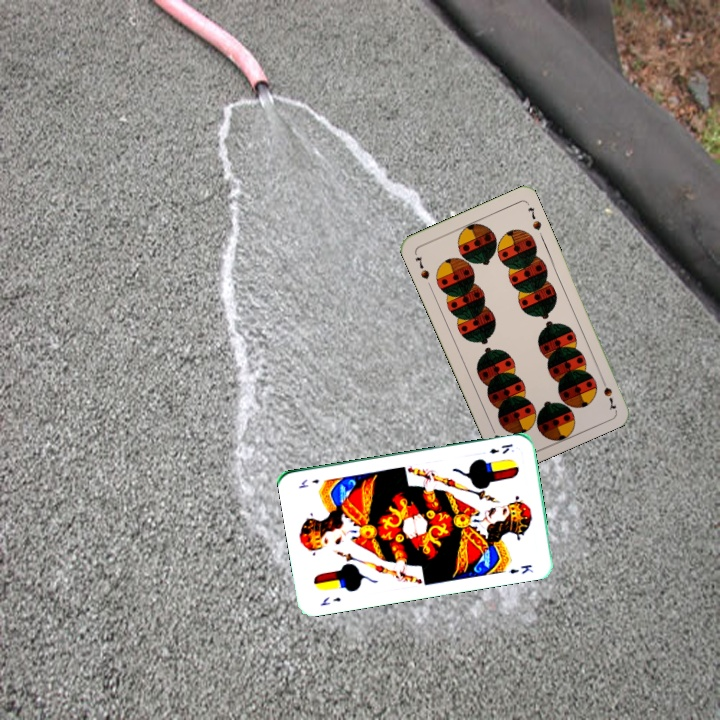EK: (485, 440, 515, 456), (316, 593, 343, 608)
S7: (597, 373, 619, 413), (411, 252, 432, 282)
